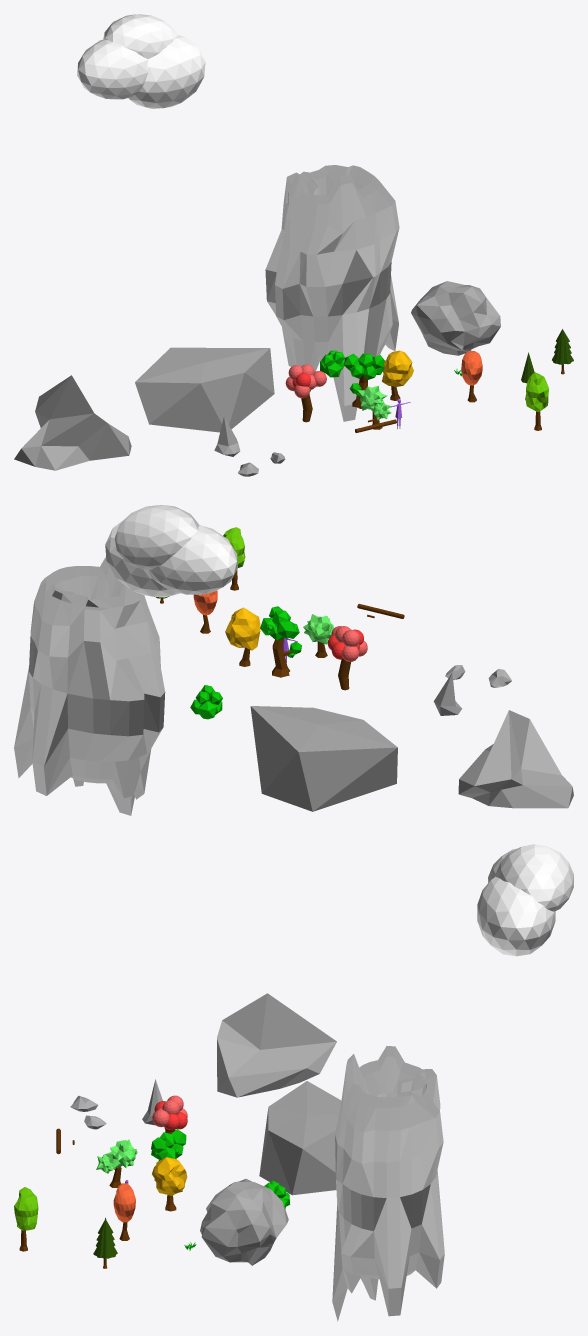
The model's file is low-poly pack.FBX.
3 views of the same model, one above another, from view 1: azimuth 30°, elevation 25°; view 2: azimuth 150°, elevation 25°; view 3: azimuth 270°, elevation 25° (orthographic). The views are drawn at different scales.
Parts seen in each view (by area): view 1: Component_30_1, Component_28_1, Component_24_1, Component_5_1, Component_31_1, Component_31_2, Component_31_3, Component_3_1, Component_25_1, Component_23_1, Component_27_1; view 2: Component_30_1, Component_28_1, Component_24_1, Component_31_2, Component_31_3, Component_31_1, Component_3_1, Component_27_1, Component_34_2, Component_1_1, Component_25_1, Component_23_1; view 3: Component_30_1, Component_24_1, Component_28_1, Component_5_1, Component_31_1, Component_31_3, Component_3_1, Component_25_1, Component_23_1, Component_34_2.
Part boxes in pixels (x1,y1,x2,y2): Component_30_1: [265, 165, 399, 421]; Component_28_1: [135, 347, 274, 432]; Component_24_1: [14, 375, 131, 470]; Component_5_1: [411, 281, 500, 355]; Component_31_1: [128, 35, 205, 108]; Component_31_2: [77, 39, 148, 99]; Component_31_3: [103, 14, 177, 58]; Component_3_1: [382, 350, 413, 386]; Component_25_1: [525, 372, 548, 411]; Component_23_1: [461, 351, 482, 385]; Component_27_1: [214, 416, 240, 456]; Component_30_1: [14, 557, 165, 815]; Component_28_1: [250, 706, 397, 811]; Component_24_1: [458, 710, 573, 808]; Component_31_2: [148, 525, 237, 594]; Component_31_3: [114, 505, 199, 570]; Component_31_1: [105, 520, 180, 597]; Component_3_1: [225, 607, 260, 650]; Component_27_1: [433, 673, 462, 715]; Component_34_2: [303, 614, 332, 644]; Component_1_1: [272, 637, 292, 677]; Component_25_1: [223, 527, 245, 567]; Component_23_1: [193, 590, 217, 615]; Component_30_1: [332, 1046, 444, 1321]; Component_24_1: [217, 993, 336, 1097]; Component_28_1: [259, 1081, 341, 1195]; Component_5_1: [200, 1178, 288, 1265]; Component_31_1: [477, 877, 555, 956]; Component_31_3: [495, 844, 573, 911]; Component_3_1: [152, 1157, 187, 1195]; Component_25_1: [14, 1187, 38, 1230]; Component_23_1: [113, 1183, 135, 1222]; Component_34_2: [104, 1139, 137, 1167].
Bounding box in the file's own units: 415 × 302 × 379.
